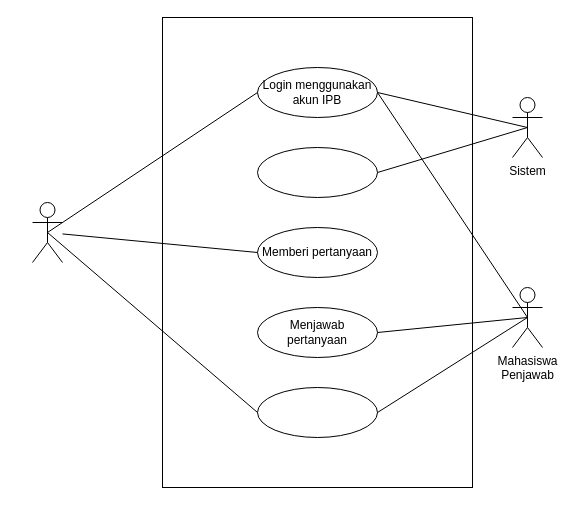
The diagram is 575 pixels wide and 505 high, and some of its shapes have lost their labels. Here are the shapes that lost their labels. From the top down, the box of each, then its label:
(256, 146, 378, 198): Verifikasi akun
(32, 202, 62, 262): Mahasiswa Penanya
(256, 386, 378, 438): Membuat Post
